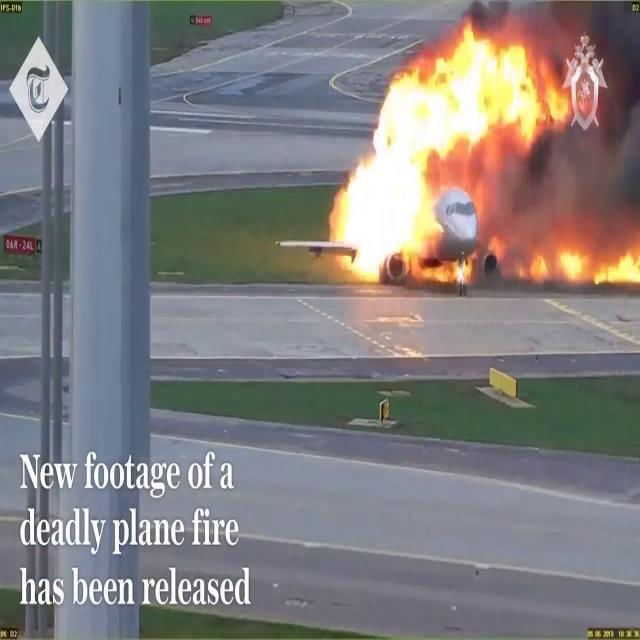Fire: (326, 14, 634, 283), (525, 232, 640, 290)
